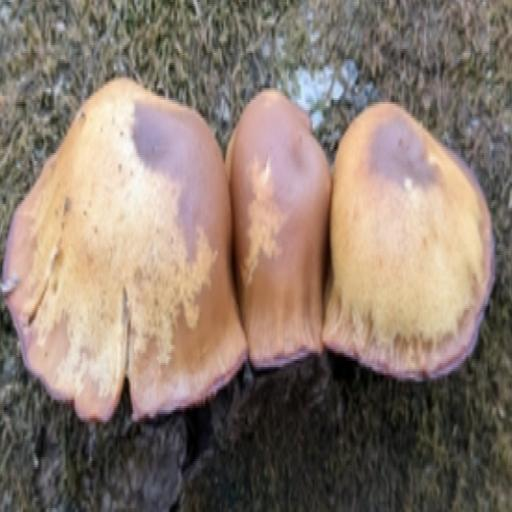Funeral Bell: (5, 78, 495, 421)
